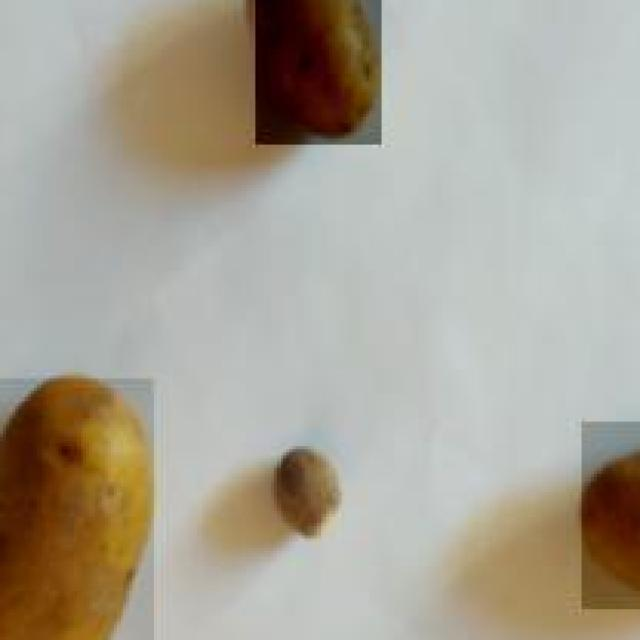potato: (0, 375, 151, 640), (252, 0, 382, 145), (575, 418, 640, 610)
